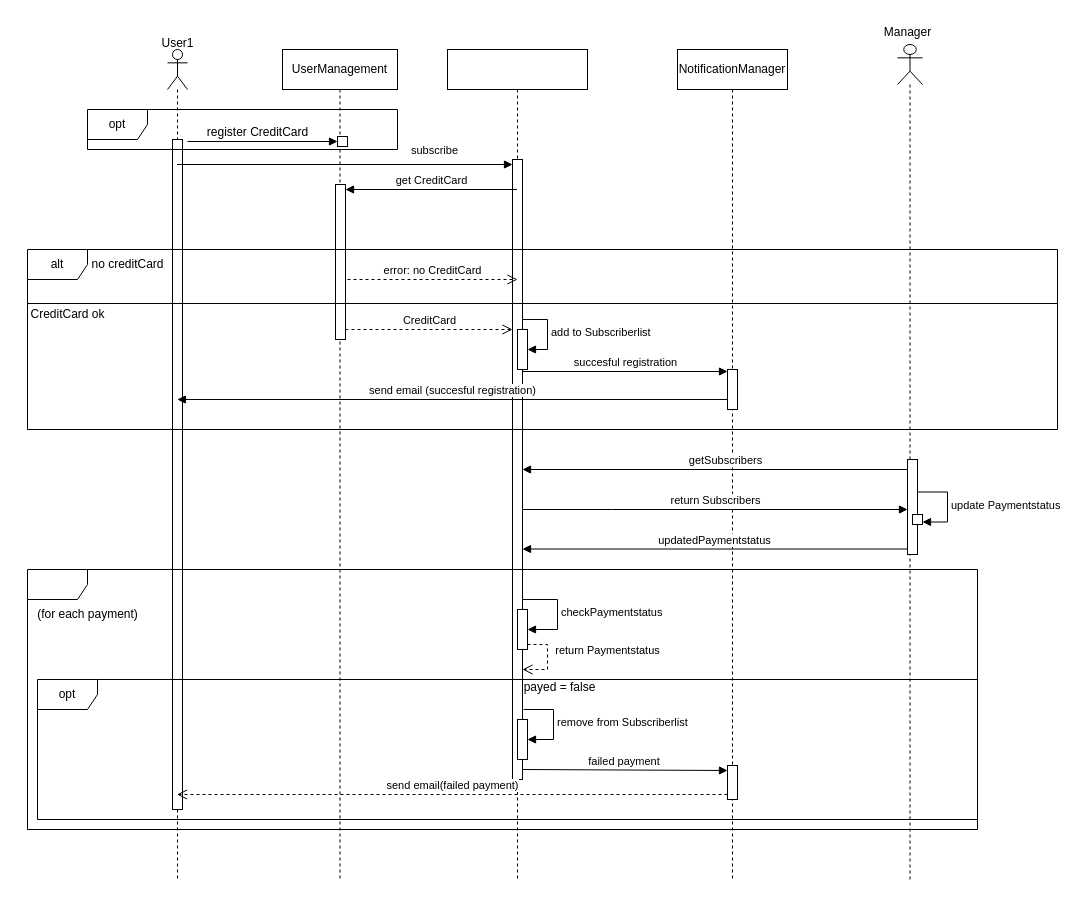
Some shapes in this 1077 by 897 pixel diagram are drawn without their labels. The box of each missing label's shape, as (x1, y1, x2, y2) in pixels:
loop: (26, 568, 978, 830)
SubscriptionManagement: (446, 48, 588, 880)
